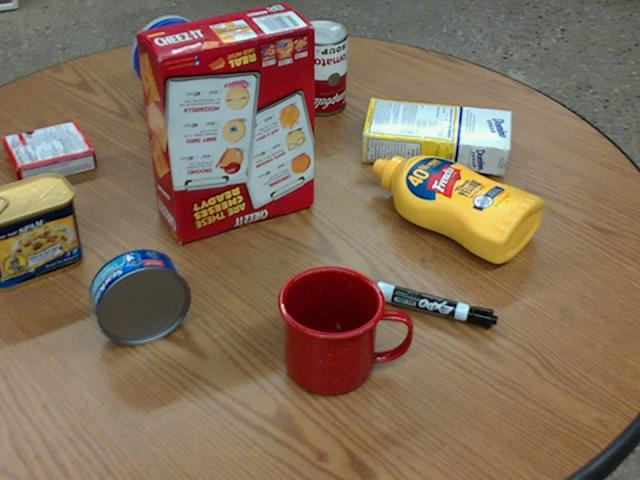cracker_box: (135, 6, 315, 243)
gelatin_box: (3, 121, 97, 186)
large_marker: (374, 281, 497, 328)
master_chef_can: (129, 16, 253, 137)
mug: (278, 265, 411, 396)
mustard_bottle: (371, 155, 543, 262)
potted_meat_can: (0, 174, 82, 292)
sugar_box: (360, 100, 512, 172)
tomato_soup_can: (292, 19, 345, 114)
tuna_fish_can: (89, 249, 190, 344)
